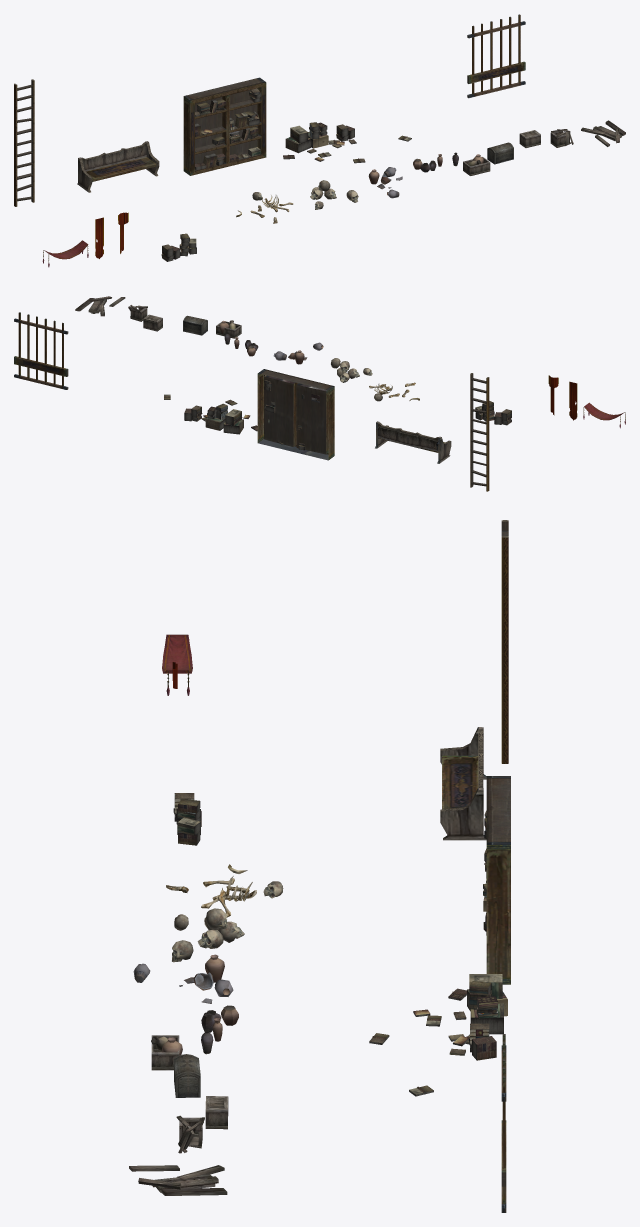
File: d_103_deco.FBX
3 renders of one model, top to bottom at view 1: azimuth 30°, elevation 25°; view 2: azimuth 150°, elevation 25°; view 3: azimuth 270°, elevation 25°, orthographic. The views are drawn at different scales.
Visible parts, largest first — view 1: d_103_deco11, d_103_deco12, d_103_deco08, d_103_deco10, d_103_deco13, d_103_deco03, d_103_deco04, Object00111, d_103_deco07, d_103_deco05, d_103_deco01, d_103_deco06 (+2 smaller); view 2: d_103_deco11, d_103_deco08, d_103_deco13, d_103_deco10, d_103_deco12, d_103_deco03, d_103_deco04, Object00111, d_103_deco07, d_103_deco05, d_103_deco06, d_103_deco01 (+2 smaller); view 3: d_103_deco11, d_103_deco12, d_103_deco10, d_103_deco03, d_103_deco13, d_103_deco05, d_103_deco07, d_103_deco04, Object00111, d_103_deco01, d_103_deco06, d_103_cloth03 (+2 smaller).
Part boxes in pixels (x1,y1,x2,y2): d_103_deco11: [183, 77, 266, 175]; d_103_deco12: [77, 141, 159, 192]; d_103_deco08: [467, 14, 525, 98]; d_103_deco10: [283, 122, 411, 163]; d_103_deco13: [14, 79, 34, 206]; d_103_deco03: [463, 142, 513, 175]; d_103_deco04: [519, 129, 573, 147]; Object00111: [161, 233, 196, 261]; d_103_deco07: [310, 180, 358, 209]; d_103_deco05: [581, 120, 625, 146]; d_103_deco01: [368, 167, 402, 198]; d_103_deco06: [236, 192, 293, 223]; d_103_deco11: [257, 369, 334, 460]; d_103_deco08: [14, 312, 68, 389]; d_103_deco13: [470, 373, 489, 491]; d_103_deco10: [164, 394, 257, 434]; d_103_deco12: [375, 421, 451, 463]; d_103_deco03: [183, 315, 241, 338]; d_103_deco04: [128, 305, 162, 331]; Object00111: [475, 401, 511, 425]; d_103_deco07: [331, 358, 372, 382]; d_103_deco05: [75, 296, 125, 316]; d_103_deco06: [369, 382, 419, 401]; d_103_deco01: [273, 342, 323, 364]; d_103_deco11: [483, 776, 510, 984]; d_103_deco12: [440, 727, 486, 840]; d_103_deco10: [369, 974, 507, 1096]; d_103_deco03: [151, 1035, 200, 1097]; d_103_deco13: [501, 520, 508, 763]; d_103_deco05: [129, 1165, 227, 1195]; d_103_deco07: [172, 908, 244, 962]; d_103_deco04: [176, 1096, 228, 1153]; Object00111: [173, 793, 201, 845]; d_103_deco01: [133, 954, 233, 1003]; d_103_deco06: [166, 864, 283, 917]; d_103_cloth03: [162, 634, 192, 695].
Size of the model in its own units: 4082 by 875 by 1258.
